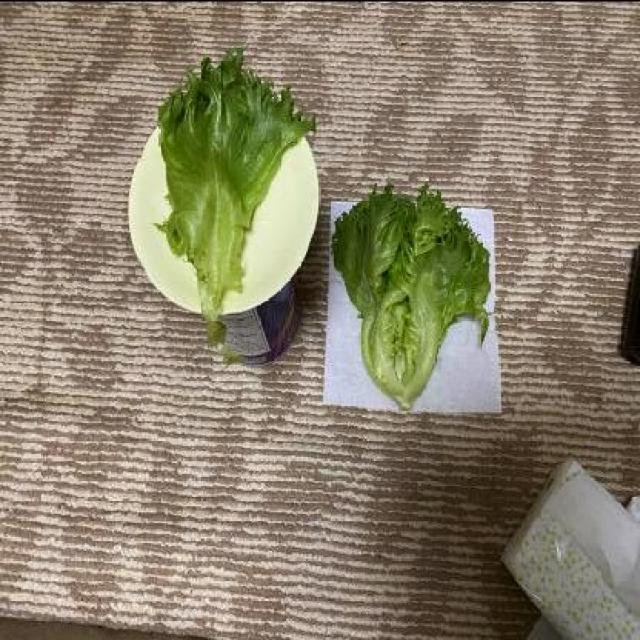Lettuce: (148, 41, 320, 338), (323, 178, 504, 412)
